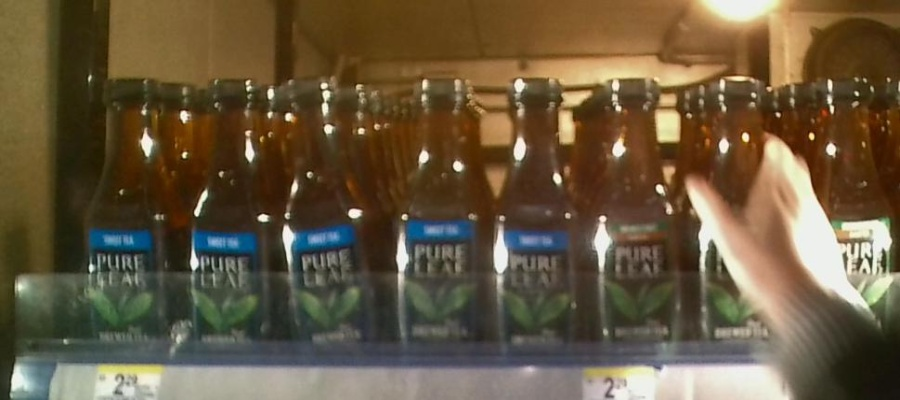bottle: (280, 74, 383, 351), (493, 60, 587, 363), (81, 74, 179, 354), (394, 73, 489, 356), (593, 73, 685, 356), (184, 78, 277, 352)
